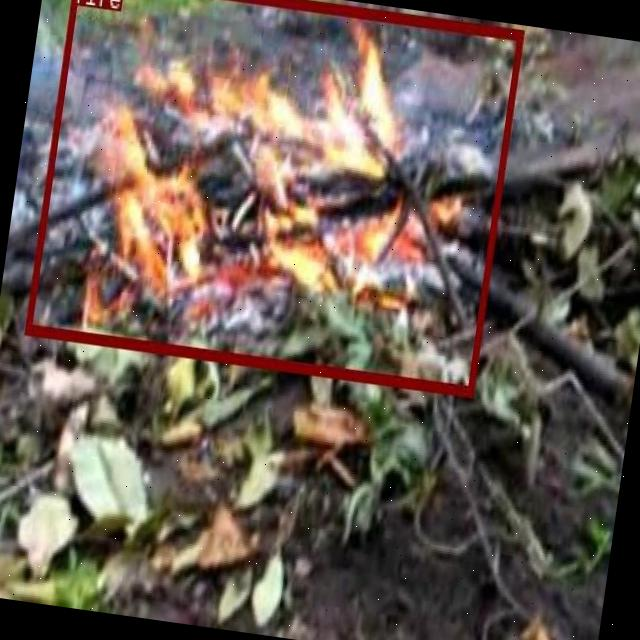fire: (23, 0, 523, 393)
